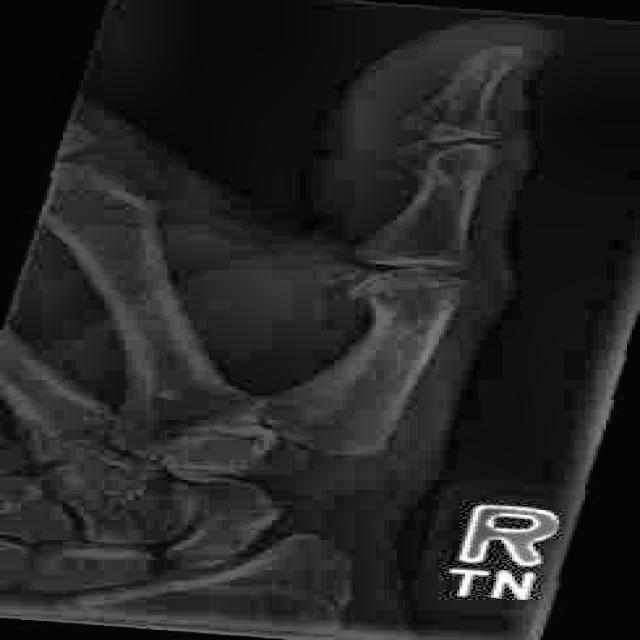fingers positive: (376, 95, 475, 150)
